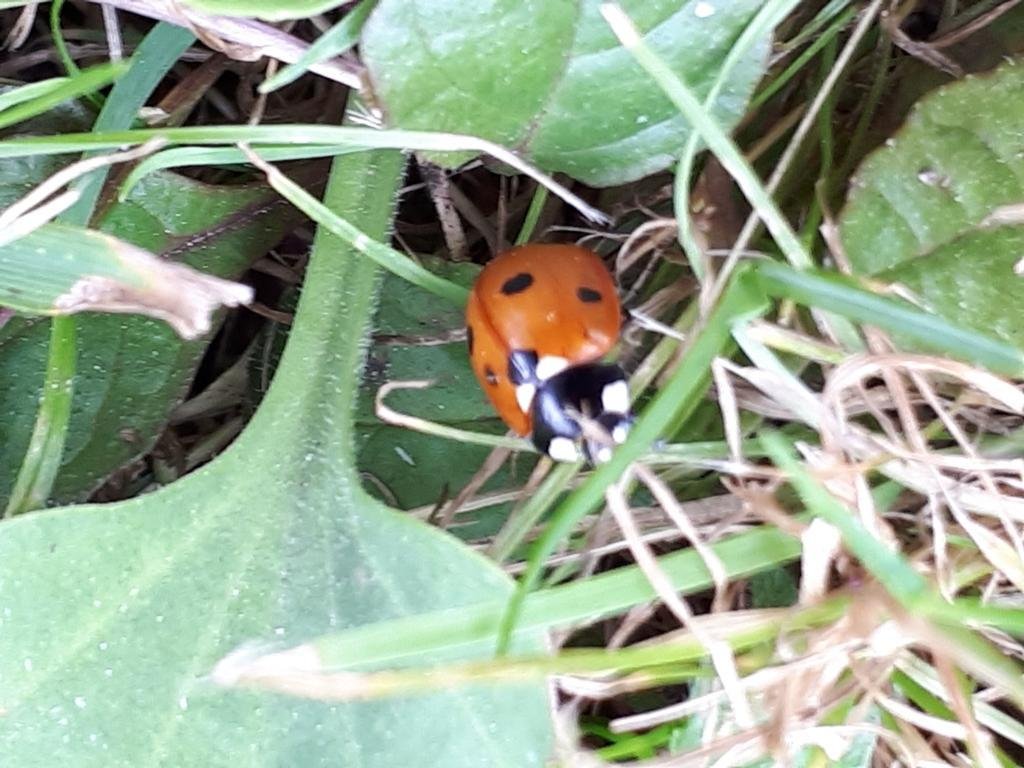ladybug: (461, 237, 641, 479)
